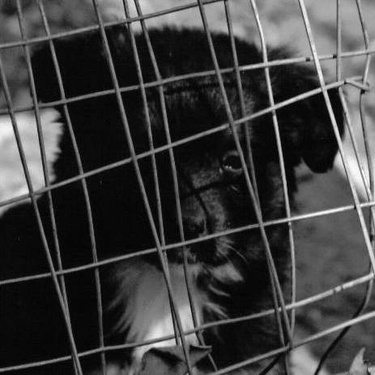dog: (1, 13, 353, 374)
